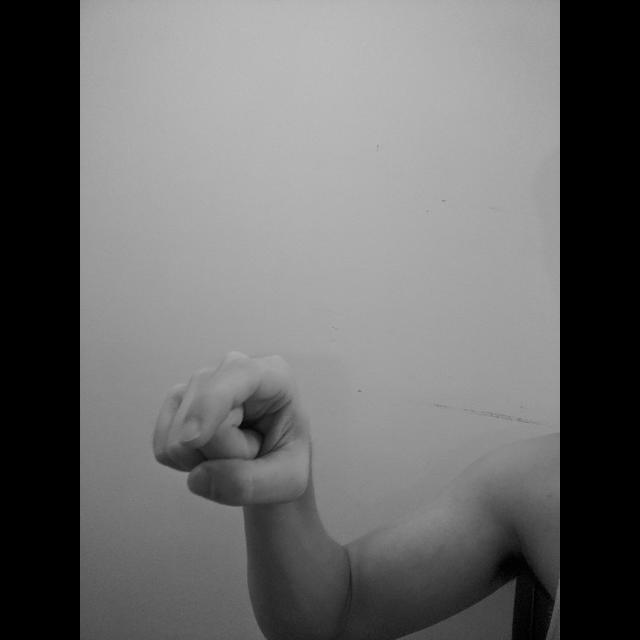Z: (147, 347, 317, 511)
